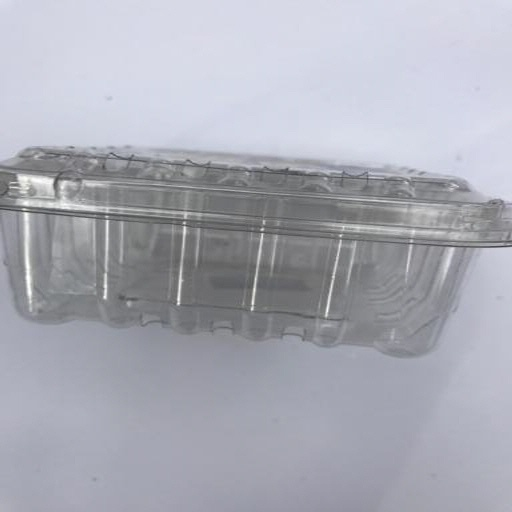Plastic_4: (1, 141, 512, 356)
